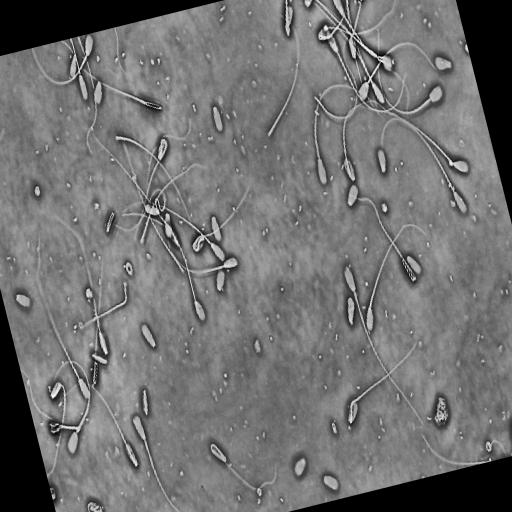coiled-tail: (192, 186, 250, 250), (135, 139, 167, 238), (210, 444, 277, 490), (142, 387, 150, 415), (195, 238, 202, 248)
dirt-particles: (432, 394, 451, 428), (86, 498, 105, 512), (49, 483, 58, 503), (85, 286, 95, 302), (125, 259, 134, 276), (34, 183, 42, 199), (331, 420, 339, 436)
folded-tail: (57, 217, 107, 353), (63, 383, 137, 466), (349, 194, 417, 279), (350, 344, 415, 424), (343, 99, 395, 177), (49, 384, 66, 475), (319, 0, 348, 40)
loose-head: (140, 321, 157, 350), (405, 253, 425, 277), (292, 454, 308, 480), (211, 104, 224, 135), (433, 53, 453, 73), (321, 472, 340, 493), (210, 214, 223, 244), (347, 182, 360, 209), (14, 292, 33, 310), (376, 145, 387, 175), (215, 267, 226, 295), (346, 295, 355, 328), (93, 79, 104, 106), (303, 0, 314, 9)
loose-tail: (113, 131, 200, 246), (120, 133, 186, 274), (98, 138, 180, 247), (139, 160, 209, 244), (265, 10, 303, 141), (313, 32, 360, 121), (77, 36, 99, 157), (78, 279, 130, 330), (421, 430, 492, 467)
normal: (343, 264, 423, 424), (120, 208, 207, 325), (36, 239, 92, 400), (382, 118, 468, 216), (54, 213, 110, 360), (308, 0, 386, 105), (61, 41, 164, 114), (326, 27, 410, 114), (60, 379, 139, 470), (374, 24, 445, 118), (122, 199, 226, 263), (346, 191, 417, 284), (366, 223, 425, 331), (312, 82, 371, 187), (347, 340, 417, 423), (357, 40, 443, 103), (390, 112, 471, 175), (131, 413, 181, 512), (342, 97, 397, 181), (191, 181, 252, 255), (131, 133, 170, 244), (208, 438, 279, 494), (52, 360, 91, 455), (32, 33, 94, 85), (169, 248, 240, 277), (47, 382, 66, 478), (92, 255, 103, 386), (318, 0, 350, 42)
proximal-droplet: (448, 158, 453, 165)
